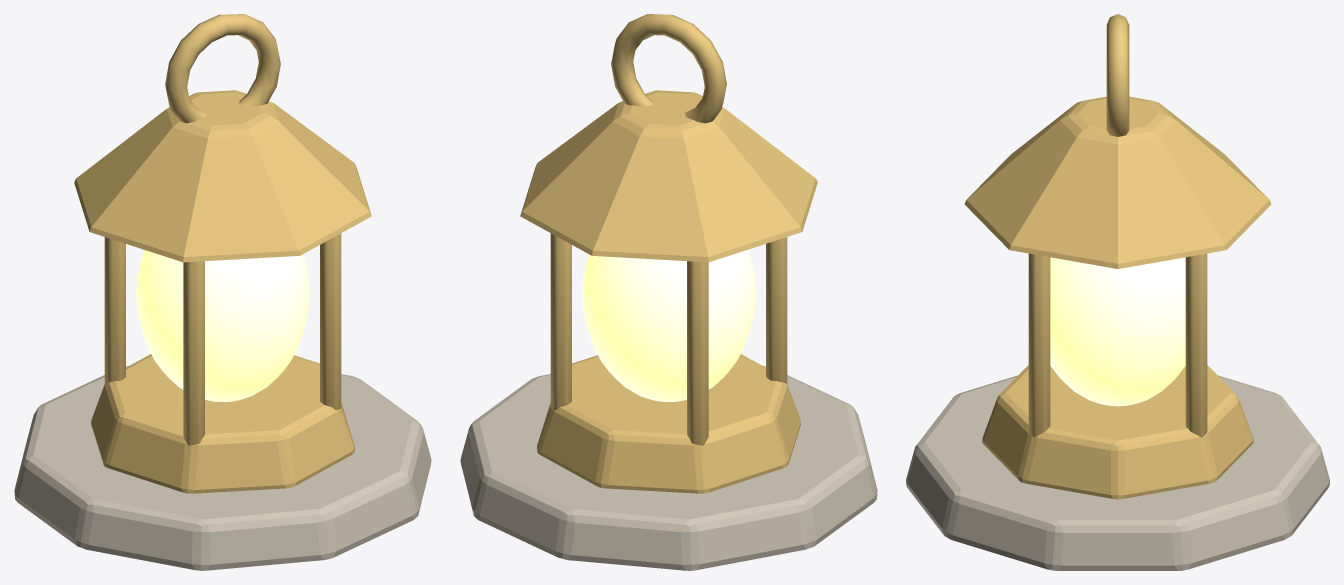
The model's file is pip_diorama_lantern.glb.
The picture shows the model from 3 angles, left to right: view 1: azimuth 30°, elevation 25°; view 2: azimuth 150°, elevation 25°; view 3: azimuth 270°, elevation 25°; orthographic projection.
Visible parts, largest first — view 1: HandleRing, Coaster, EmberCore; view 2: HandleRing, Coaster, EmberCore; view 3: HandleRing, Coaster, EmberCore.
Part boxes in pixels (x1=…): HandleRing: x1=74, y1=14, x2=371, y2=493; Coaster: x1=14, y1=366, x2=431, y2=570; EmberCore: x1=136, y1=250, x2=309, y2=401; HandleRing: x1=520, y1=14, x2=817, y2=493; Coaster: x1=460, y1=366, x2=877, y2=570; EmberCore: x1=582, y1=250, x2=755, y2=401; HandleRing: x1=964, y1=14, x2=1271, y2=499; Coaster: x1=906, y1=375, x2=1329, y2=570; EmberCore: x1=1050, y1=257, x2=1185, y2=406.
Bounding box in the file's own units: 0.6398 × 0.813 × 0.6673.
